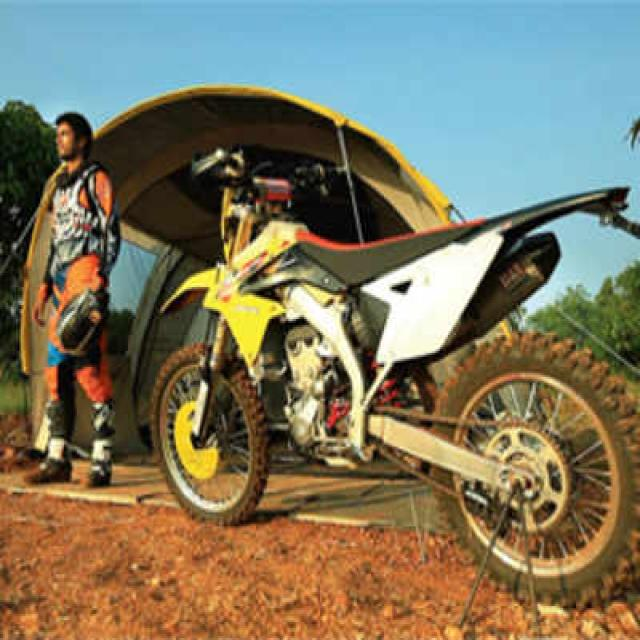motorcycle: (152, 148, 640, 602)
